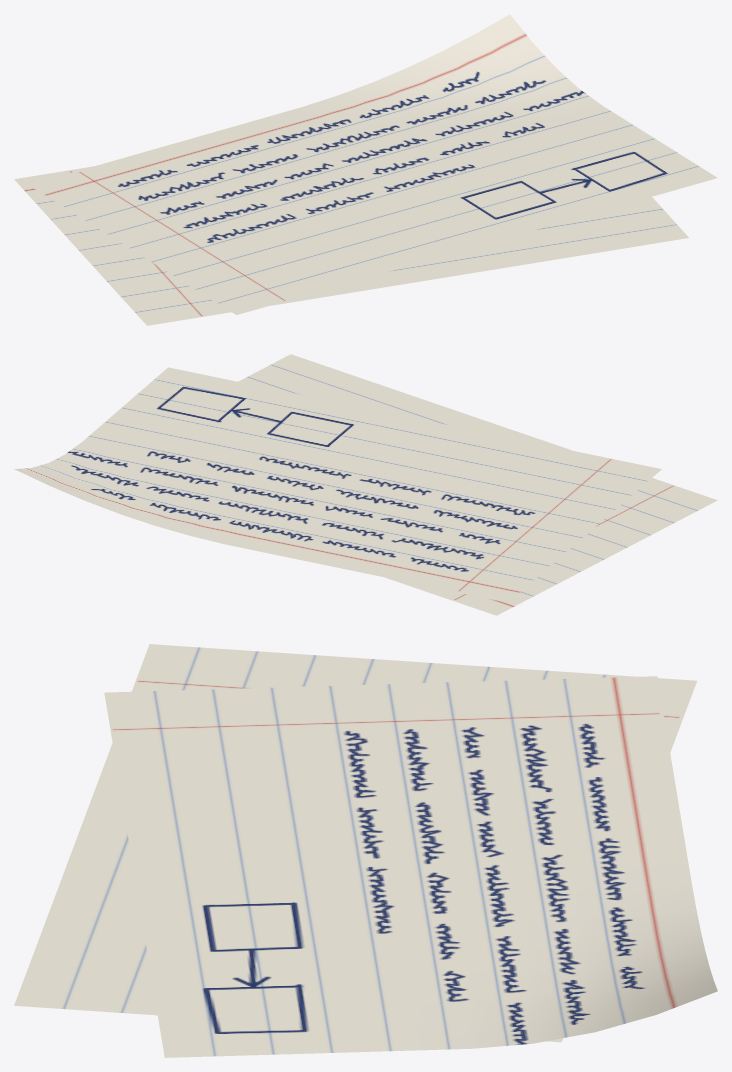
Rendered from desk-note.glb.
The picture shows the model from 3 angles, top to bottom: view 1: azimuth 30°, elevation 25°; view 2: azimuth 150°, elevation 25°; view 3: azimuth 270°, elevation 25°; orthographic projection. The views are drawn at different scales.
Visible parts, largest first — view 1: desk-note; view 2: desk-note; view 3: desk-note.
Boxes of the visible parts, x1,y1,x2,y2 form: desk-note: (14, 14, 717, 325); desk-note: (14, 354, 717, 615); desk-note: (14, 644, 717, 1057).
Size of the model in its own units: 57.25 by 3.55 by 40.62.
1 material, 1 textured.
